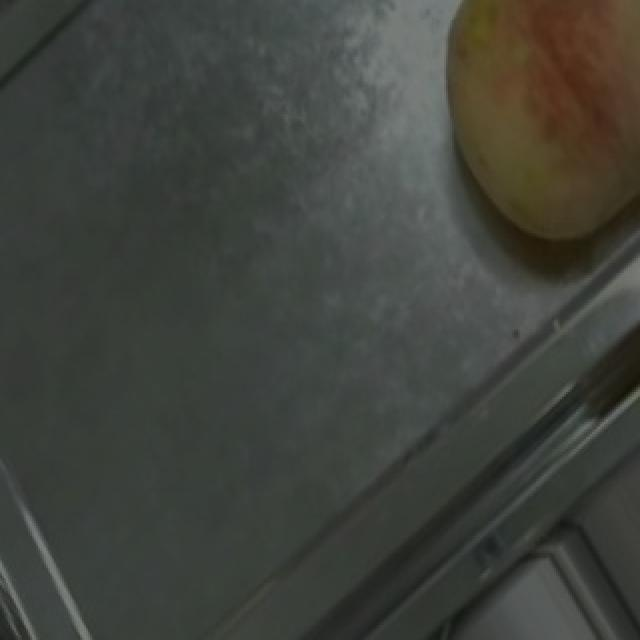Fruit: (400, 0, 640, 278)
